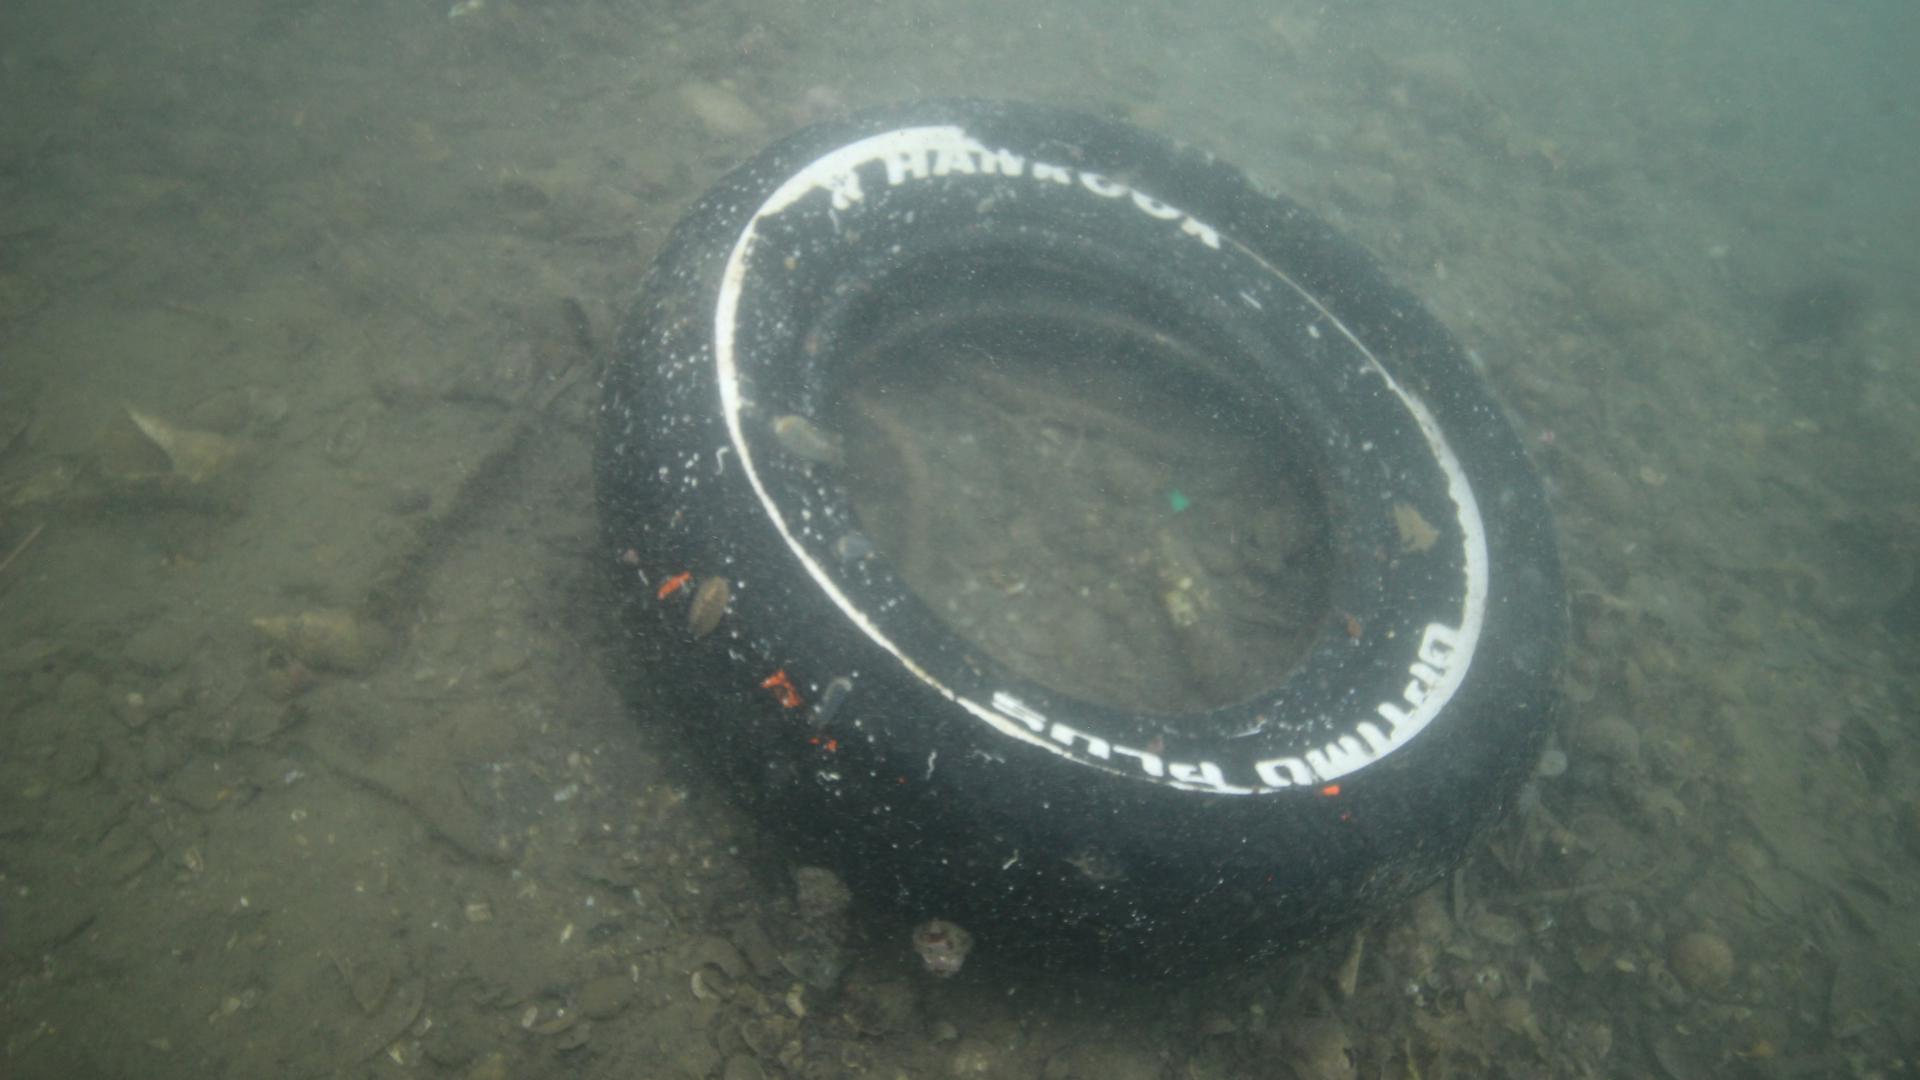tire: (588, 92, 1560, 982)
